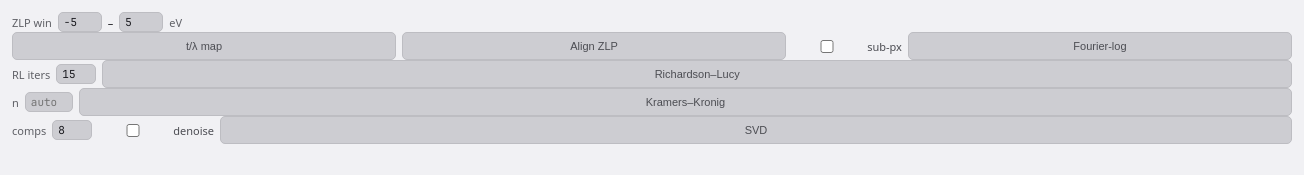
Test: EelsAdvanced SVD › keeps the source cube active so the result stays on screen
Click the button "SVD" at (756,130), box 220,116 -> 1292,144
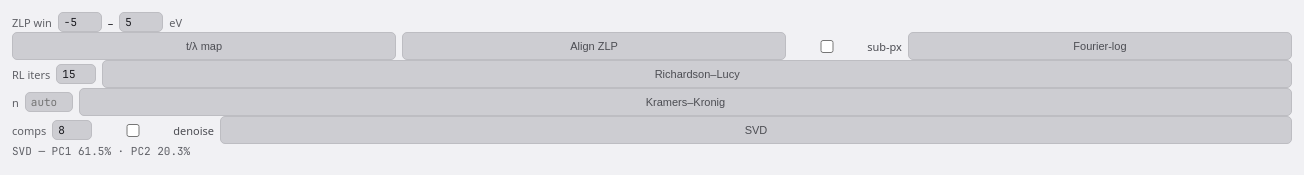
Check: the text "SVD — PC1 61.5% · PC2 20.3%" is shown, box 12,144 -> 190,158
